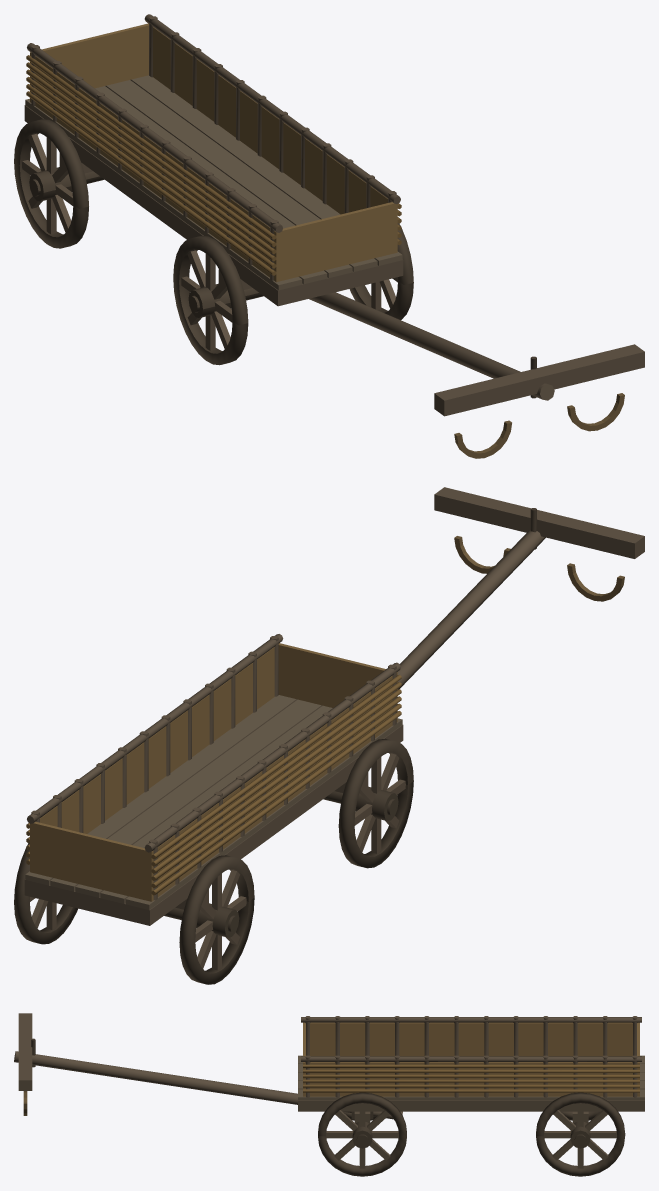
File: oxwagon-1000.glb
3 views of the same model, one above another, from view 1: azimuth 30°, elevation 25°; view 2: azimuth 150°, elevation 25°; view 3: azimuth 270°, elevation 25° (orthographic). The views are drawn at different scales.
Visible parts, largest first — view 1: rim (×3), wattle-panel-left, wattle-panel-front, yoke-beam, floor-plank-01-array.04, wattle-panel-rear, floor-plank-01-array.05, wattle-panel-right, draught-pole, sill-right, top-rail-left, top-rail-right (+14 smaller); view 2: rim (×3), wattle-panel-left, wattle-panel-rear, yoke-beam, floor-plank-01-array.04, wattle-panel-front, floor-plank-01-array.05, wattle-panel-right, draught-pole, sill-right, top-rail-right, top-rail-left (+12 smaller); view 3: wattle-panel-right, wattle-panel-left, rim (×2), draught-pole, sill-left, top-rail-left, top-rail-right, withy-left-01, withy-left-01-array.02, withy-left-01-array.03, withy-left-01-array.04, withy-left-01-array.05 (+8 smaller).
Part boxes in pixels (left/top/right/bottom): rim (×3): left=14, top=119, right=413, bottom=365; wattle-panel-left: left=148, top=23, right=397, bottom=253; wattle-panel-front: left=280, top=202, right=393, bottom=281; yoke-beam: left=434, top=344, right=644, bottom=416; floor-plank-01-array.04: left=105, top=80, right=377, bottom=271; wattle-panel-rear: left=42, top=23, right=148, bottom=88; floor-plank-01-array.05: left=130, top=75, right=402, bottom=265; wattle-panel-right: left=30, top=52, right=279, bottom=282; draught-pole: left=309, top=292, right=554, bottom=400; sill-right: left=24, top=105, right=289, bottom=306; top-rail-left: left=144, top=14, right=400, bottom=204; top-rail-right: left=27, top=43, right=282, bottom=232; rim (×3): left=14, top=738, right=413, bottom=984; wattle-panel-left: left=30, top=643, right=279, bottom=872; wattle-panel-rear: left=34, top=822, right=147, bottom=900; yoke-beam: left=434, top=487, right=644, bottom=558; floor-plank-01-array.04: left=50, top=699, right=322, bottom=891; wattle-panel-front: left=278, top=643, right=385, bottom=707; floor-plank-01-array.05: left=25, top=695, right=297, bottom=885; wattle-panel-right: left=148, top=672, right=397, bottom=901; draught-pole: left=397, top=530, right=545, bottom=689; sill-right: left=137, top=724, right=403, bottom=925; top-rail-right: left=144, top=662, right=400, bottom=852; top-rail-left: left=27, top=634, right=283, bottom=823; wattle-panel-right: left=303, top=1022, right=639, bottom=1056; wattle-panel-left: left=303, top=1062, right=639, bottom=1096; rim (×2): left=318, top=1092, right=625, bottom=1176; draught-pole: left=14, top=1051, right=402, bottom=1119; sill-left: left=298, top=1100, right=644, bottom=1111; top-rail-left: left=301, top=1056, right=641, bottom=1061; top-rail-right: left=301, top=1017, right=641, bottom=1022; withy-left-01: left=303, top=1089, right=639, bottom=1092; withy-left-01-array.02: left=303, top=1084, right=639, bottom=1087; withy-left-01-array.03: left=303, top=1079, right=639, bottom=1082; withy-left-01-array.04: left=303, top=1074, right=639, bottom=1077; withy-left-01-array.05: left=303, top=1069, right=639, bottom=1072.
Bounding box in the file's own units: 1.6 × 1.23 × 6.37.
